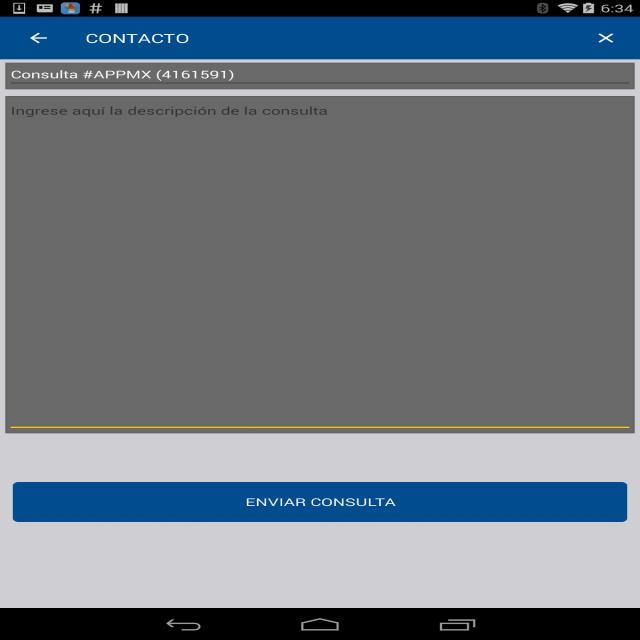button: (15, 482, 629, 522), (588, 30, 622, 50), (22, 29, 53, 48)
heading: (86, 31, 189, 46)
text: (6, 102, 329, 120), (6, 64, 237, 84)
